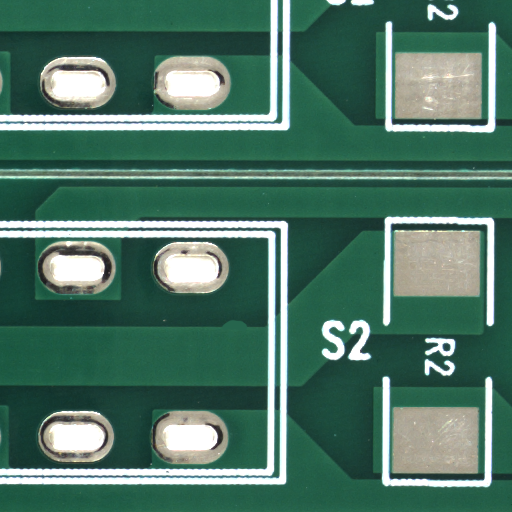Spur: (234, 323, 262, 332)
